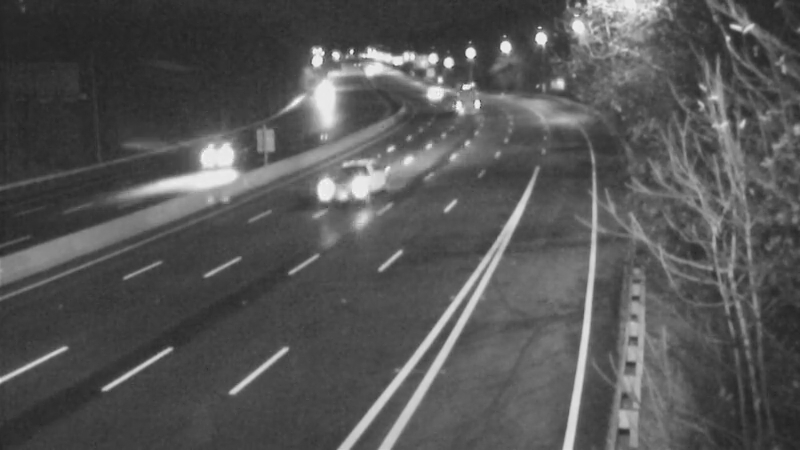vehicle: (306, 147, 386, 227), (181, 111, 261, 191), (411, 66, 461, 116), (434, 70, 484, 120), (298, 71, 348, 121)
